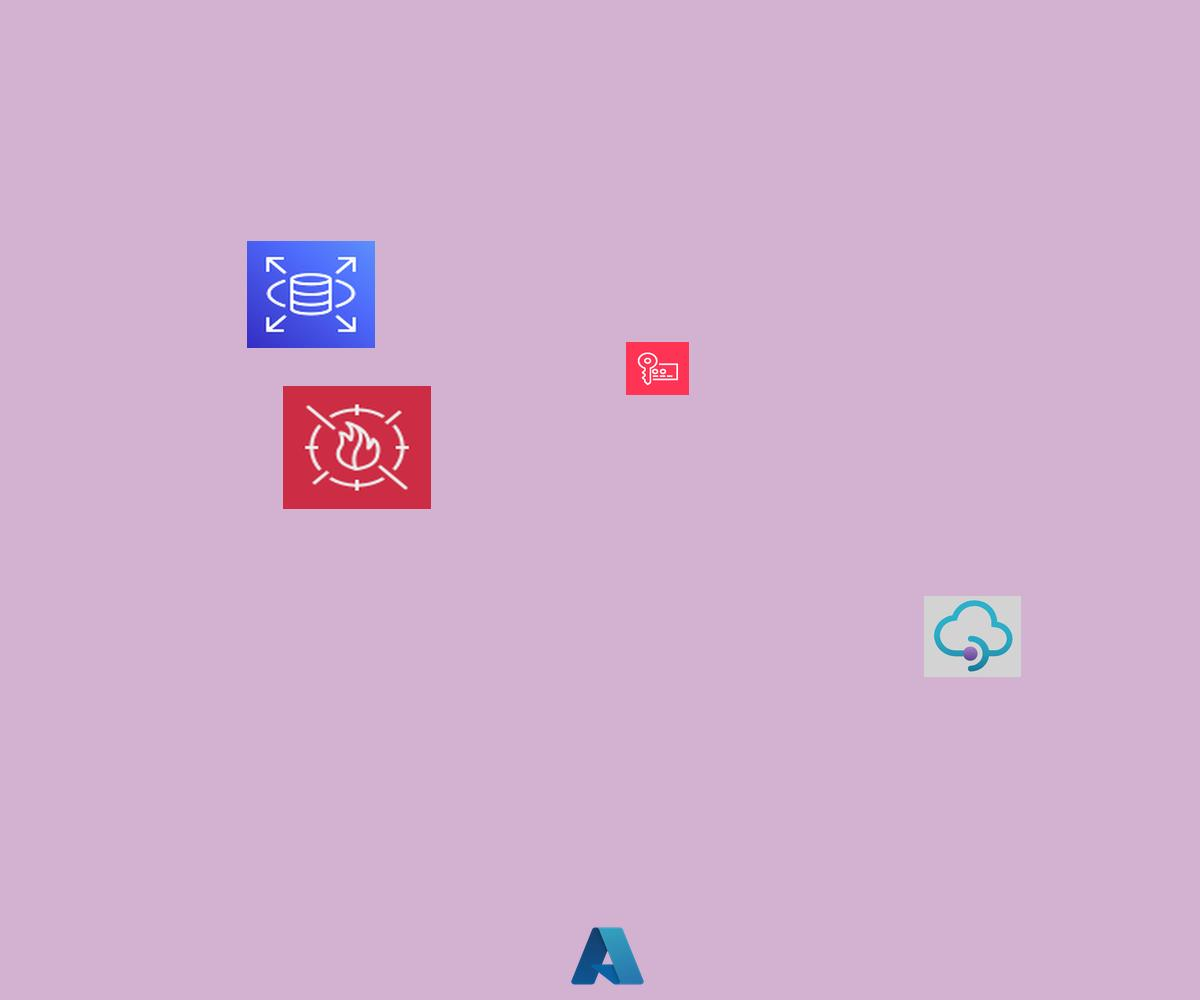AWS-Key-Management-Service: (626, 342, 689, 395)
AWS-RDS: (247, 241, 375, 348)
AWS-WAF: (283, 386, 431, 509)
Azure_api_gateway: (924, 596, 1021, 677)
Azure_services: (568, 923, 647, 989)
